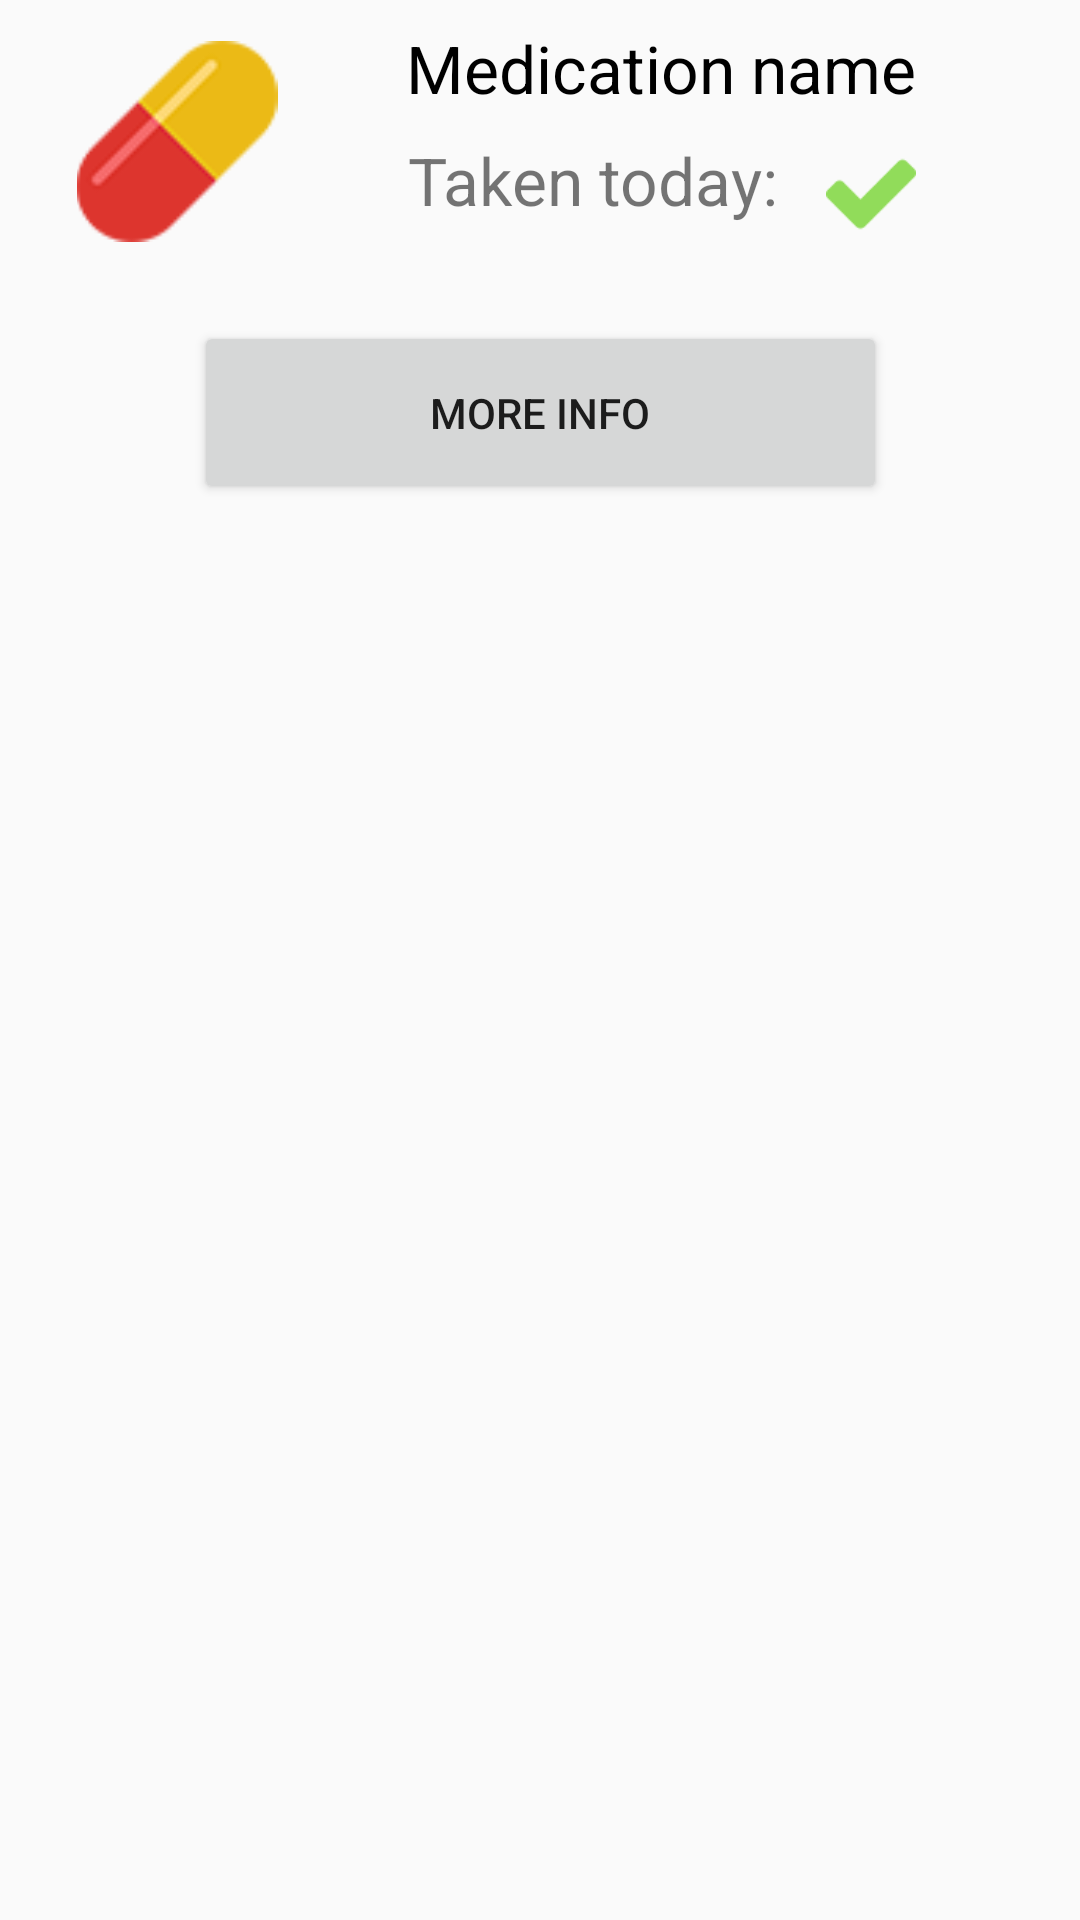

Where to tap for icons on this 1080 × 1920 app screen, as point (x, y):
check: point (871, 194)
Pill Icon: point (177, 141)
